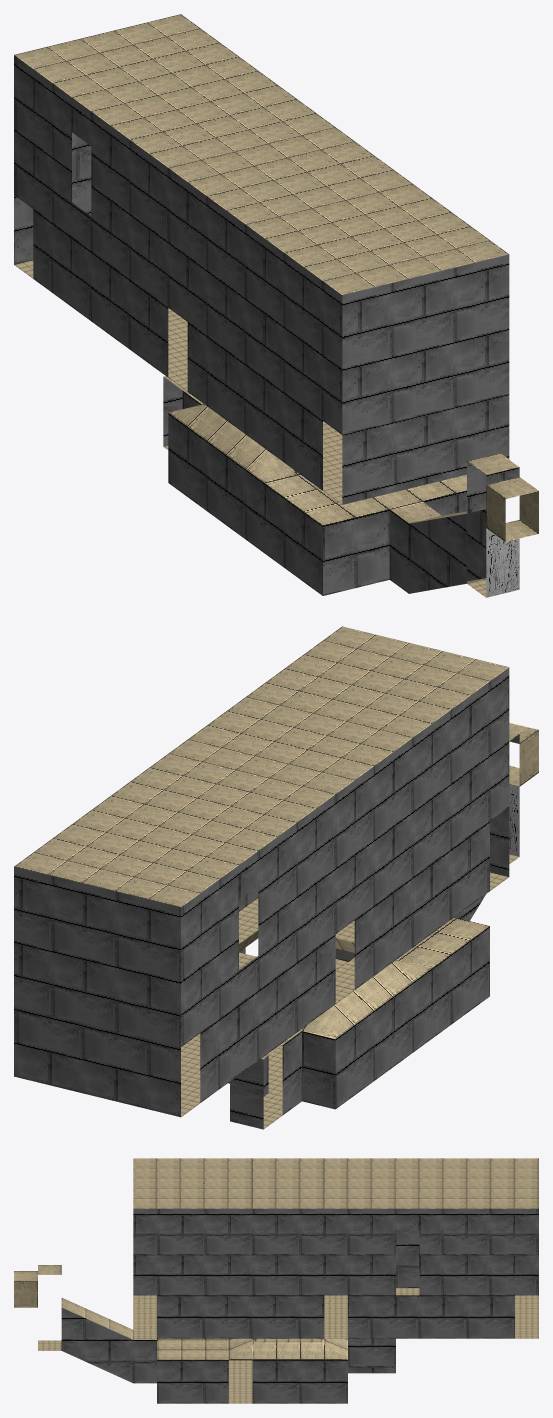
Rendered from temple2.obj.
3 views of the same model, one above another, from view 1: azimuth 30°, elevation 25°; view 2: azimuth 150°, elevation 25°; view 3: azimuth 270°, elevation 25° (orthographic). The views are drawn at different scales.
Parts seen in each view (by area): view 1: LevelIndices; view 2: LevelIndices; view 3: LevelIndices.
Boxes of the visible parts, box(x1,y1,x2,y2) form: LevelIndices: box(14, 14, 538, 597); LevelIndices: box(14, 626, 538, 1129); LevelIndices: box(14, 1158, 538, 1403).
Bounding box in the file's own units: 735 × 1324 × 3235.
